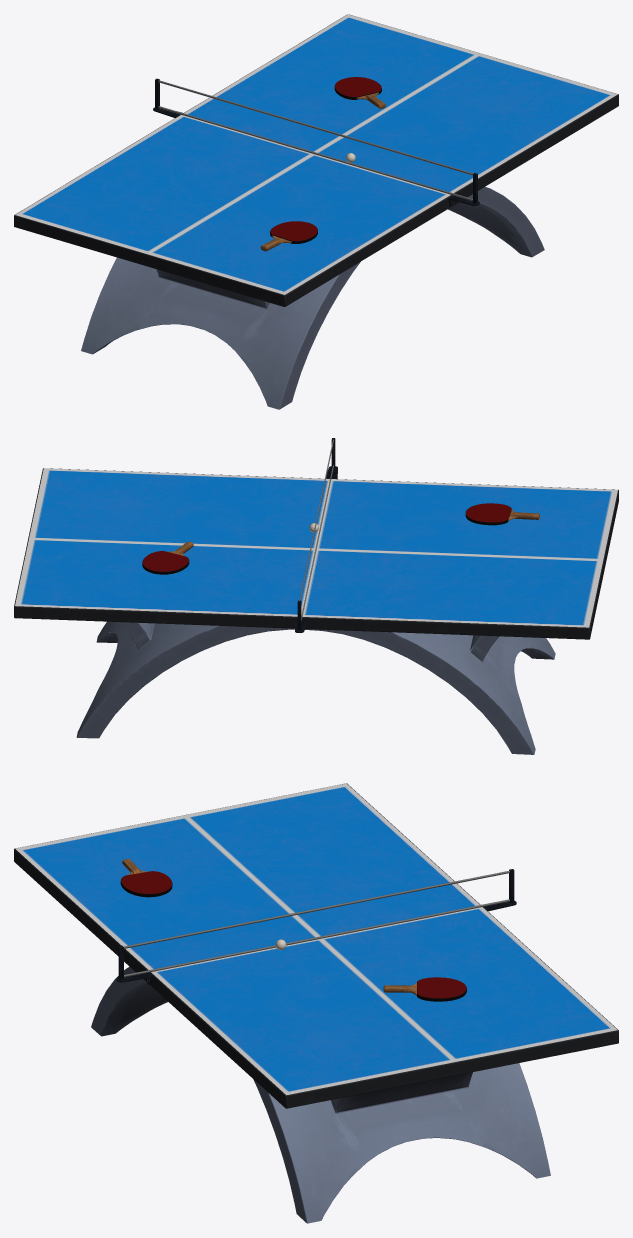
File: table tennis_table.glb
The picture shows the model from 3 angles, top to bottom: view 1: azimuth 30°, elevation 25°; view 2: azimuth 150°, elevation 25°; view 3: azimuth 270°, elevation 25°; orthographic projection. The views are drawn at different scales.
Visible parts, largest first — view 1: ping pong_ping pong_0; view 2: ping pong_ping pong_0; view 3: ping pong_ping pong_0.
Boxes of the visible parts, x1,y1,x2,y2 form: ping pong_ping pong_0: (14, 14, 618, 409); ping pong_ping pong_0: (14, 438, 618, 754); ping pong_ping pong_0: (14, 783, 618, 1223).
Bounding box in the file's own units: 15.78 × 4.57 × 12.91.
Materials: 1 (1 with a texture image).
